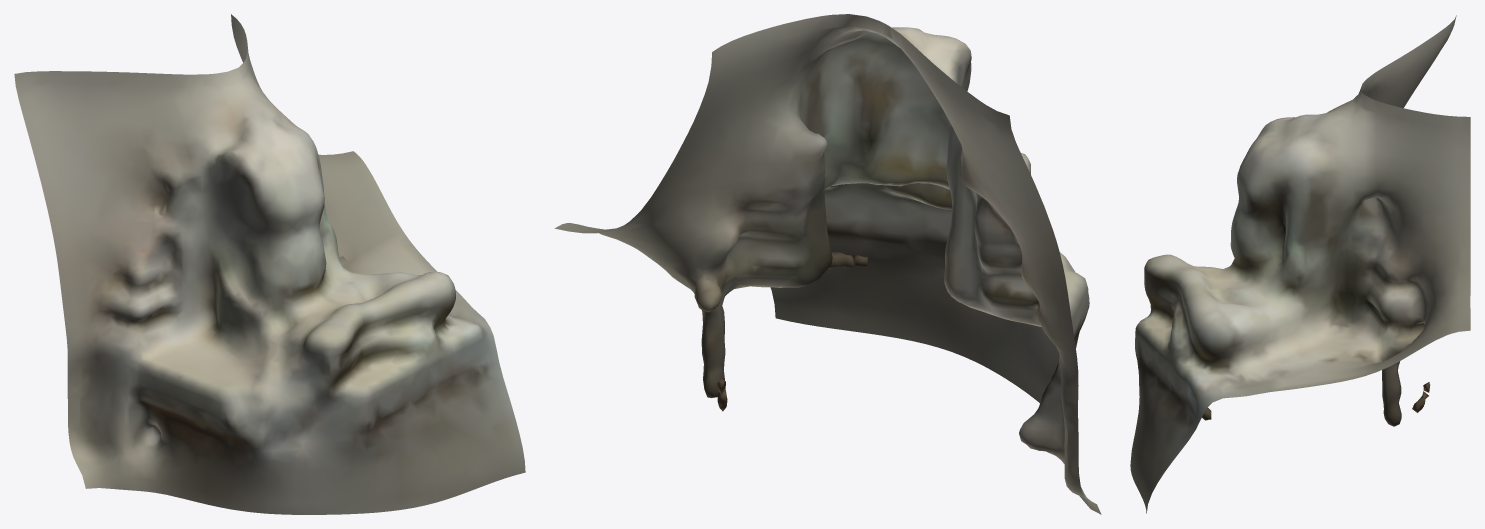
The model's file is model3D_LOW_triangles_ScreenedPoisson.obj.
3 renders of one model, left to right at view 1: azimuth 30°, elevation 25°; view 2: azimuth 150°, elevation 25°; view 3: azimuth 270°, elevation 25°, orthographic. The views are drawn at different scales.
Bounding box in the file's own units: 2.92 × 2.92 × 2.63.
